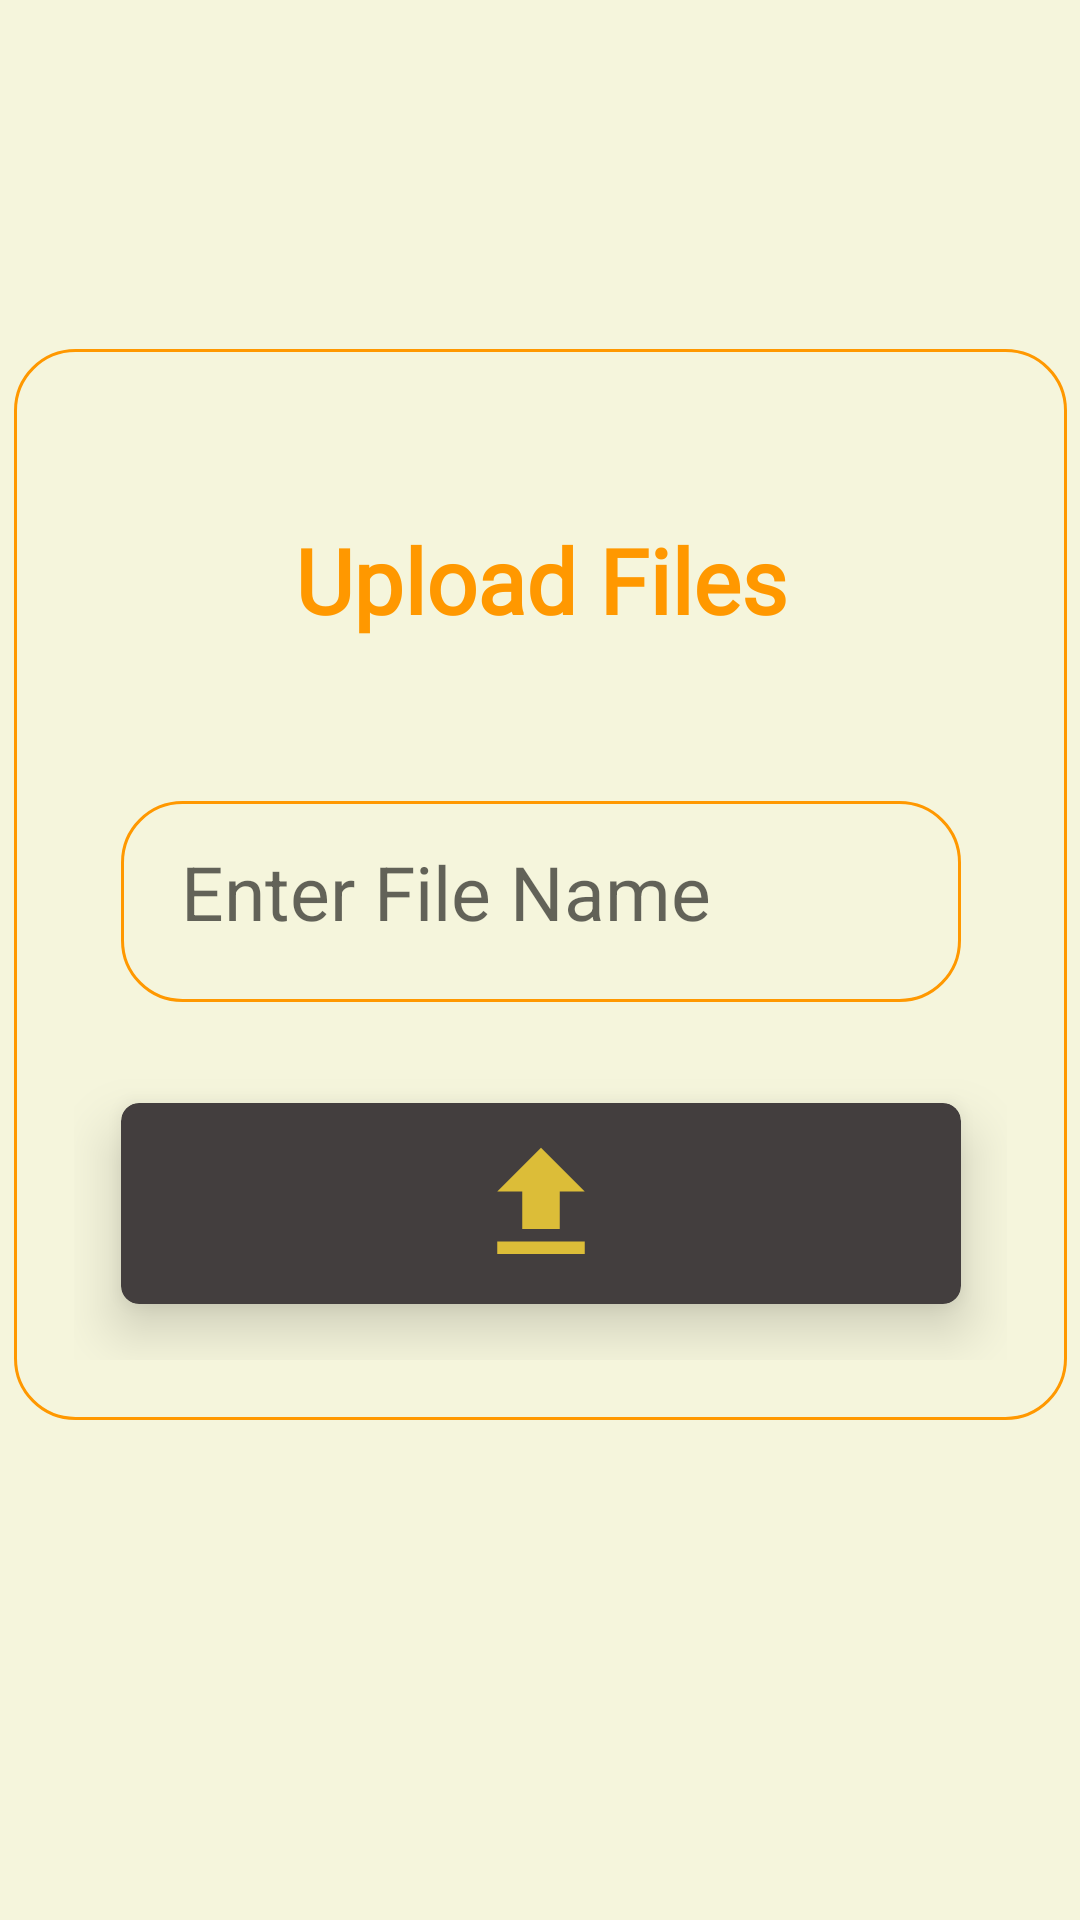

Named icons in this screenshot (1080w x 1920h) and their bounding boxes, bbox(x1, y1, x2, y2):
file upload: bbox(497, 1148, 585, 1254)
